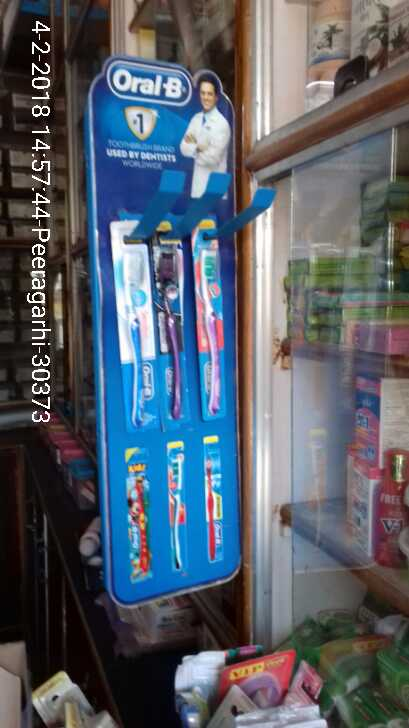oralb: (105, 218, 159, 429), (191, 215, 229, 416), (154, 216, 189, 422)
